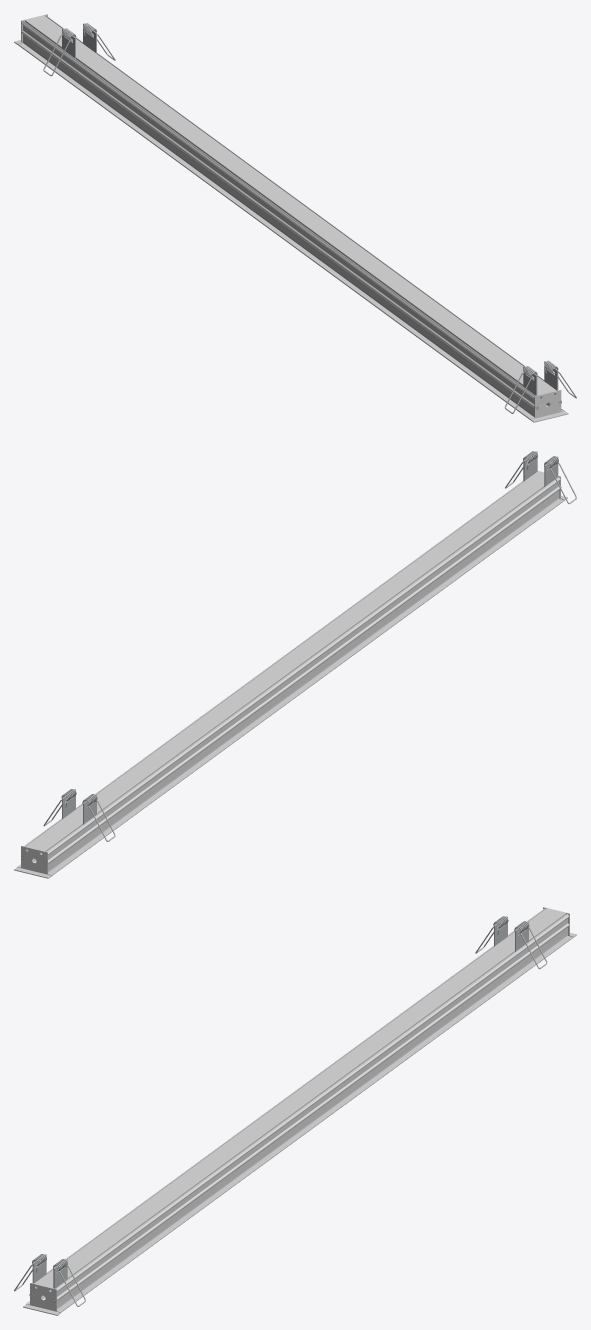
The model's file is Fit25StandardEmbutido.glb.
The picture shows the model from 3 angles, top to bottom: view 1: azimuth 30°, elevation 25°; view 2: azimuth 150°, elevation 25°; view 3: azimuth 330°, elevation 25°; orthographic projection.
Parts seen in each view (by area): view 1: 3DGeom-15, 3DGeom-2; view 2: 3DGeom-15, 3DGeom-2; view 3: 3DGeom-15, 3DGeom-2.
Boxes of the visible parts, box(x1,y1,x2,y2) form: 3DGeom-15: box(17, 15, 563, 419); 3DGeom-2: box(530, 389, 568, 422); 3DGeom-15: box(18, 471, 564, 875); 3DGeom-2: box(14, 845, 51, 878); 3DGeom-15: box(26, 908, 573, 1312); 3DGeom-2: box(23, 1283, 60, 1315).
Size of the model in its own units: 0.0735 by 0.0487 by 1.02.
Materials: 3 (1 with a texture image).
